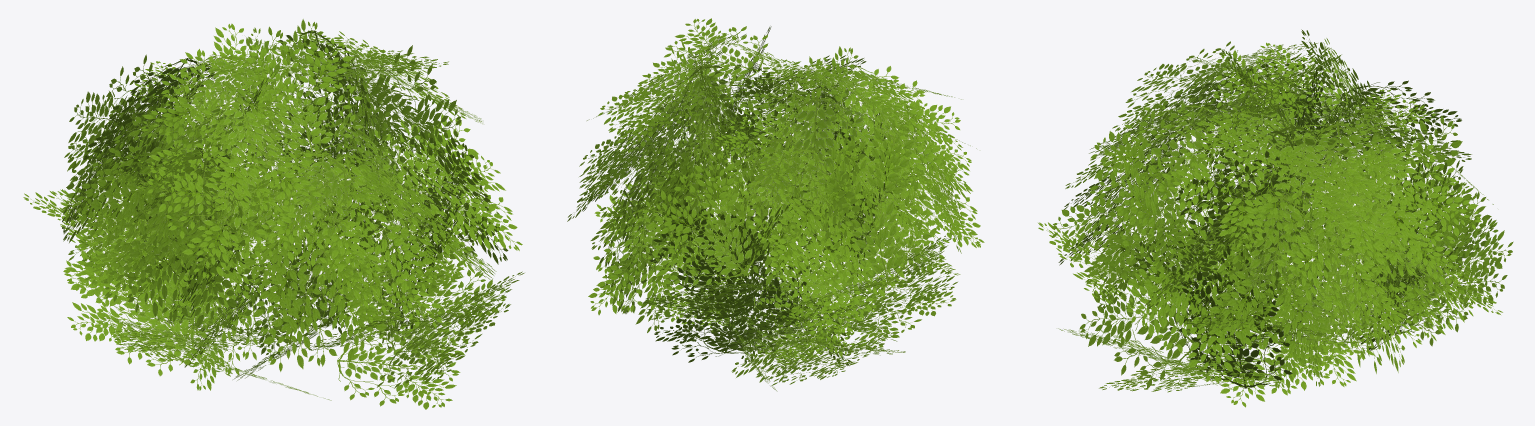
Rendered from shrub-round.glb.
3 renders of one model, left to right at view 1: azimuth 30°, elevation 25°; view 2: azimuth 150°, elevation 25°; view 3: azimuth 270°, elevation 25°, orthographic. The views are drawn at different scales.
Visible parts, largest first — view 1: leaves; view 2: leaves; view 3: leaves.
Part boxes in pixels (x1,y1,x2,y2): leaves: (23,19,524,409); leaves: (567,18,984,391); leaves: (1038,29,1513,407).
Bounding box in the file's own units: 1.53 × 1.26 × 1.68.
1 material, 1 textured.
